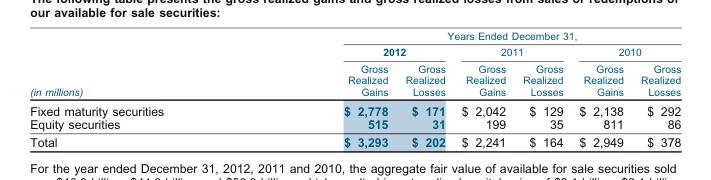table: (29, 29, 680, 148)
table column: (29, 29, 253, 148), (253, 29, 396, 148), (452, 29, 513, 148), (570, 29, 631, 148), (513, 29, 570, 148), (396, 29, 452, 148), (631, 29, 680, 148)
table column header: (29, 29, 680, 99)
table row: (29, 60, 680, 99), (29, 43, 680, 60), (29, 99, 680, 116), (29, 116, 680, 132), (29, 132, 680, 148), (29, 29, 680, 43)
table spanning cell: (29, 29, 253, 99), (253, 29, 680, 43), (253, 43, 452, 60), (452, 43, 570, 60), (570, 43, 680, 60)
